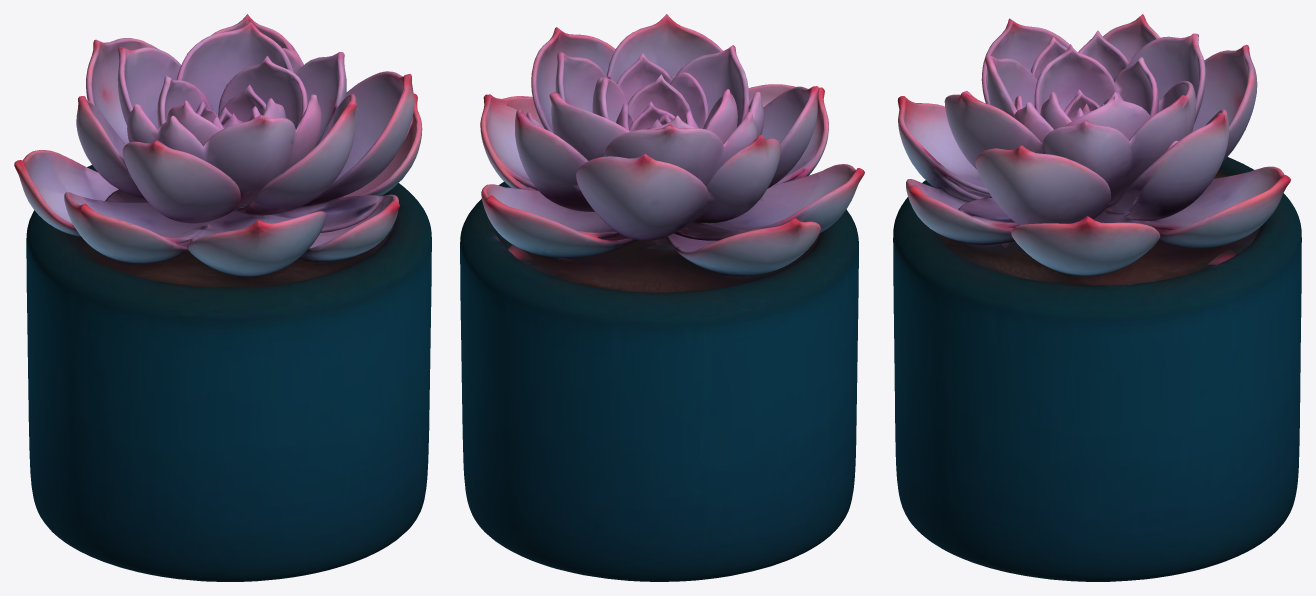
Rendered from succulent.glb.
The picture shows the model from 3 angles, left to right: view 1: azimuth 30°, elevation 25°; view 2: azimuth 150°, elevation 25°; view 3: azimuth 270°, elevation 25°; orthographic projection. The views are drawn at different scales.
Parts seen in each view (by area): view 1: node_0; view 2: node_0; view 3: node_0.
Part boxes in pixels (x1,y1,x2,y2): node_0: (14,14,431,581); node_0: (460,14,864,581); node_0: (893,14,1301,581).
Size of the model in its own units: 0.8155 by 0.9385 by 0.7896.
Materials: 1 (1 with a texture image).
